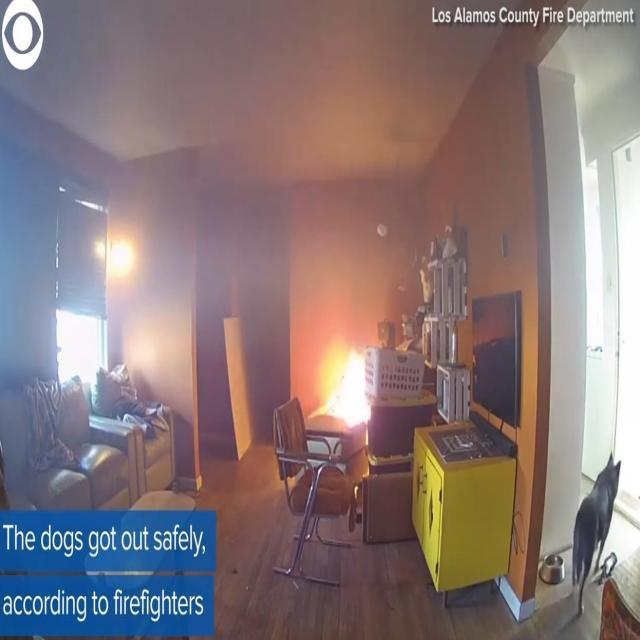smoke: (322, 346, 376, 424)
